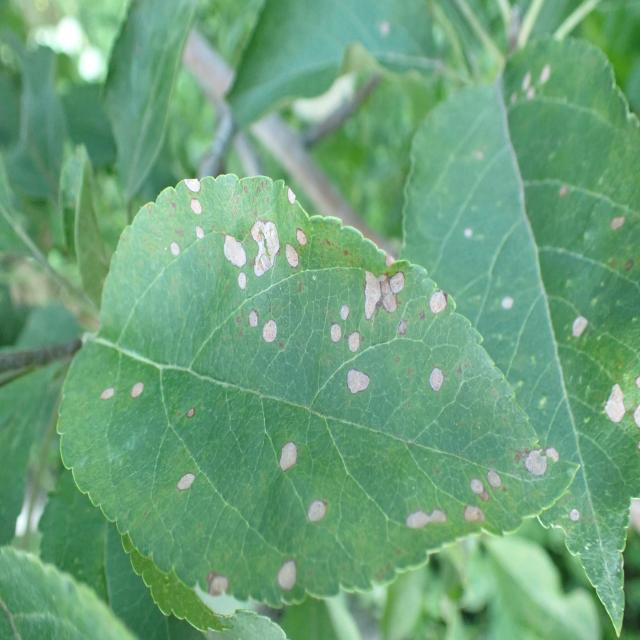Black Rot: (356, 252, 413, 322), (206, 545, 236, 622), (518, 436, 559, 492), (468, 444, 502, 506), (251, 209, 280, 278), (220, 215, 250, 272), (264, 555, 306, 593), (399, 504, 450, 535), (181, 166, 207, 224), (278, 240, 312, 283), (424, 274, 454, 320), (604, 372, 624, 438), (273, 434, 301, 480), (455, 503, 499, 532), (302, 493, 332, 535), (564, 308, 593, 349), (341, 366, 376, 399), (624, 478, 640, 549), (96, 374, 117, 424), (169, 464, 196, 498), (261, 314, 285, 350), (605, 205, 630, 238), (167, 227, 184, 275), (560, 502, 588, 530), (277, 184, 313, 204), (346, 326, 364, 364), (428, 366, 447, 402), (190, 223, 212, 253), (334, 295, 356, 325), (130, 373, 147, 411), (290, 218, 310, 248), (180, 399, 200, 429), (498, 292, 518, 322), (232, 272, 254, 298), (327, 319, 344, 346), (245, 304, 259, 336), (396, 320, 416, 340)
